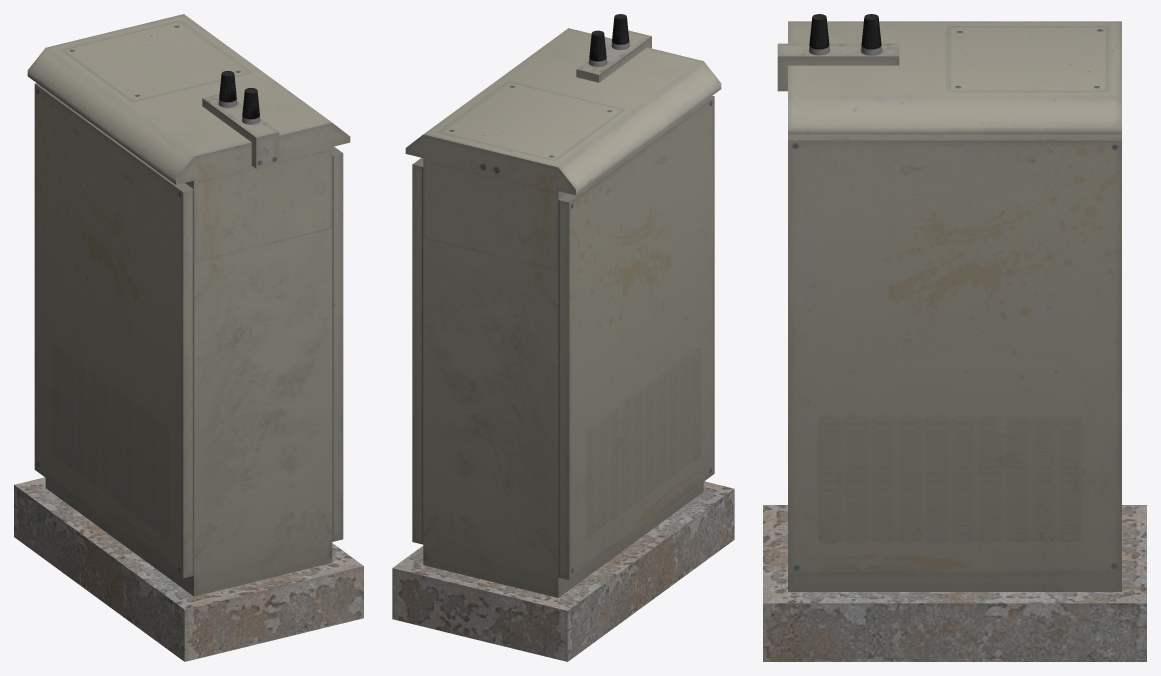
File: MB_Transformer_01.fbx
The picture shows the model from 3 angles, left to right: view 1: azimuth 30°, elevation 25°; view 2: azimuth 150°, elevation 25°; view 3: azimuth 270°, elevation 25°; orthographic projection. The views are drawn at different scales.
Visible parts, largest first — view 1: MB_Transformer_01_LOD0; view 2: MB_Transformer_01_LOD0; view 3: MB_Transformer_01_LOD0.
Part boxes in pixels (x1=…): MB_Transformer_01_LOD0: x1=14, y1=14, x2=363, y2=661; MB_Transformer_01_LOD0: x1=392, y1=14, x2=734, y2=661; MB_Transformer_01_LOD0: x1=763, y1=14, x2=1146, y2=661.
Size of what is drawn, in the model's own units: 57.31 by 162 by 94.53.
